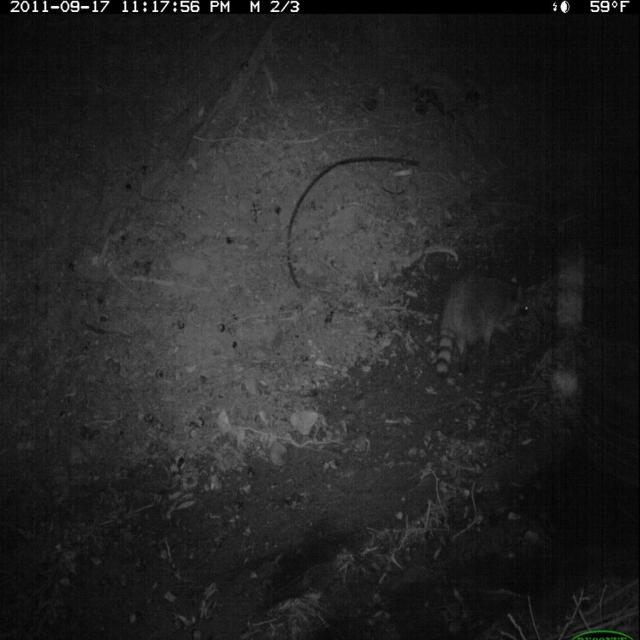raccoon: (431, 263, 537, 381)
